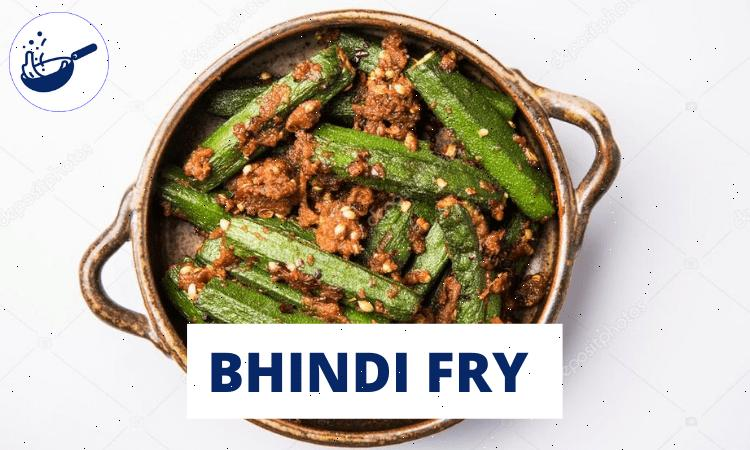bhindi: (180, 65, 585, 371)
